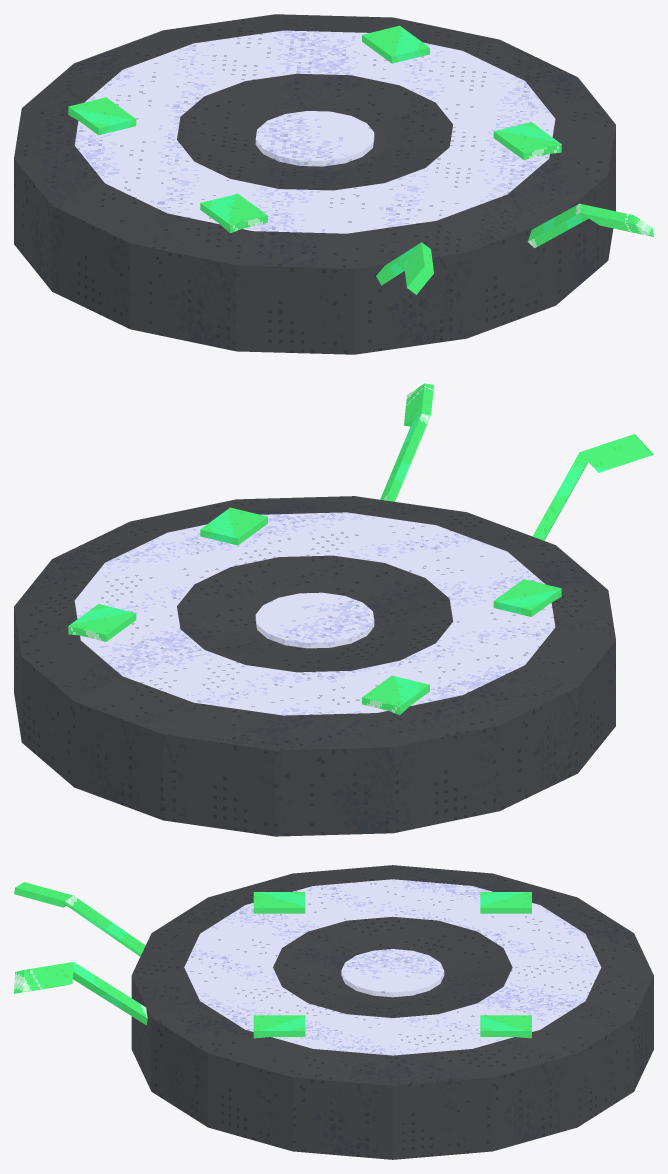
File: Baroomba.glb
3 renders of one model, top to bottom at view 1: azimuth 30°, elevation 25°; view 2: azimuth 150°, elevation 25°; view 3: azimuth 270°, elevation 25°, orthographic. The views are drawn at different scales.
Parts seen in each view (by area): view 1: Baroomba, Wheels.001, Atenna; view 2: Baroomba, Wheels.001, Atenna; view 3: Baroomba, Atenna, Wheels.001.
Boxes of the visible parts, bbox=[...] form: Baroomba: bbox=[14, 14, 615, 354]; Wheels.001: bbox=[68, 25, 561, 233]; Atenna: bbox=[376, 203, 653, 294]; Baroomba: bbox=[14, 496, 615, 836]; Wheels.001: bbox=[68, 507, 561, 715]; Atenna: bbox=[380, 383, 653, 540]; Baroomba: bbox=[131, 865, 653, 1159]; Atenna: bbox=[14, 882, 147, 1025]; Wheels.001: bbox=[253, 892, 531, 1038].
Bounding box in the file's own units: 0.66 × 0.1806 × 0.8086.
Materials: 3 (3 with a texture image).
